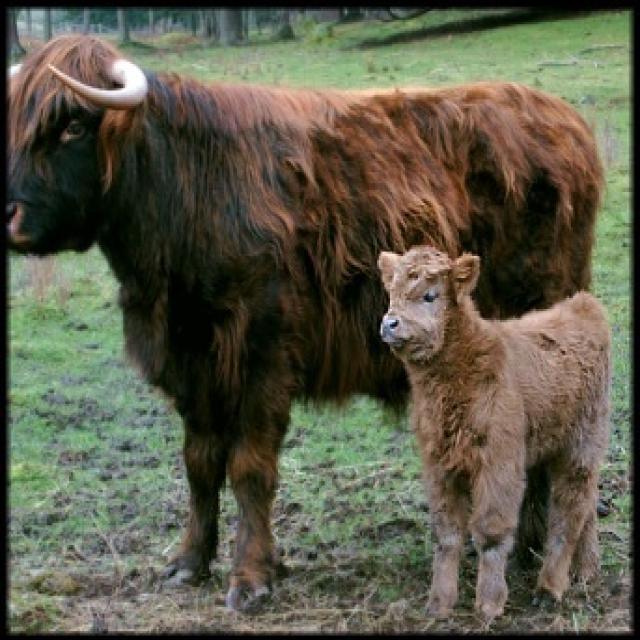cow: (9, 33, 601, 611), (371, 240, 612, 618)
